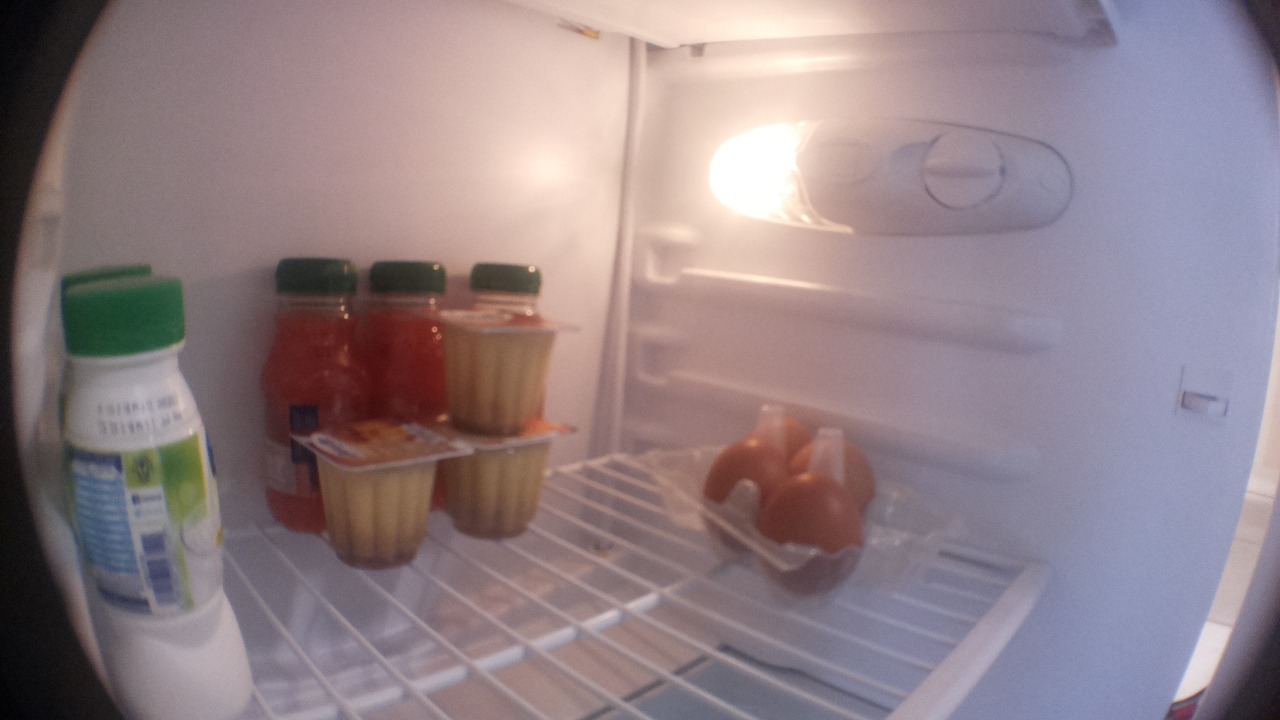caramel: (288, 407, 474, 582), (399, 302, 598, 442), (422, 416, 585, 550)
egg: (760, 475, 864, 597), (700, 436, 788, 557), (793, 436, 883, 512), (756, 415, 809, 472)
juice: (264, 254, 373, 537), (364, 254, 463, 420), (465, 258, 546, 314)
laban: (60, 273, 260, 720)
